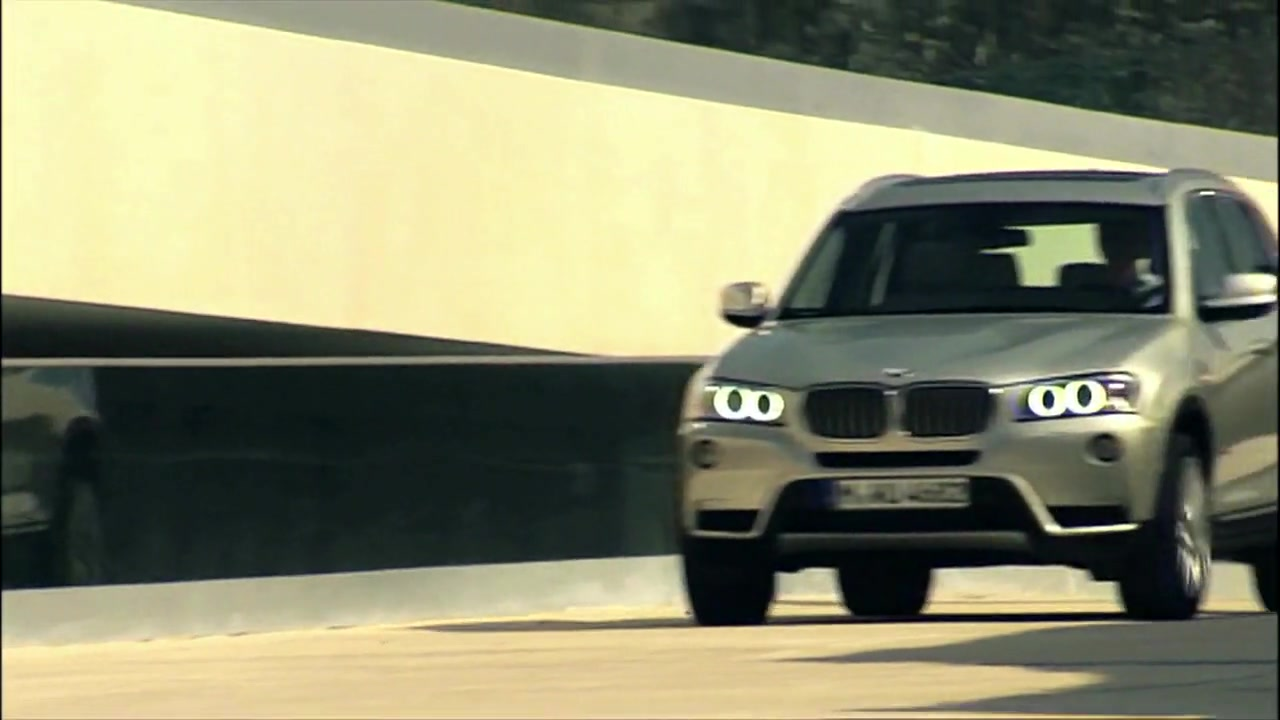car: (675, 166, 1280, 626)
